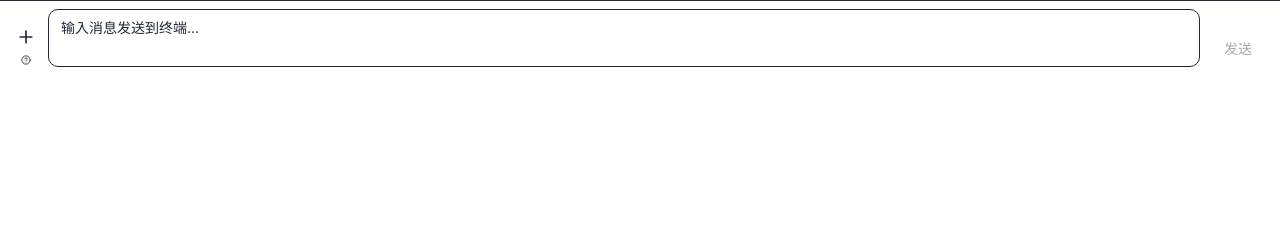
Test: CodexSendFlow：30 秒截止与待确认（S5） › verify_delivered：核对返回 delivered → 「已确认送达」（正式回显口径）
Step 1. Type "排查一下构建" into the text box with test id "composer-input" → [624, 38], box x1=48 y1=9 x2=1200 y2=67
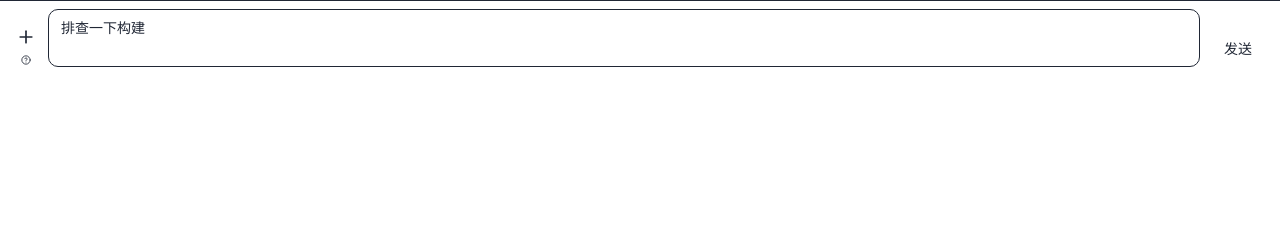
Step 2. Click the button with test id "composer-send" → [1238, 49], box x1=1208 y1=31 x2=1268 y2=67
Wait 30000 ms
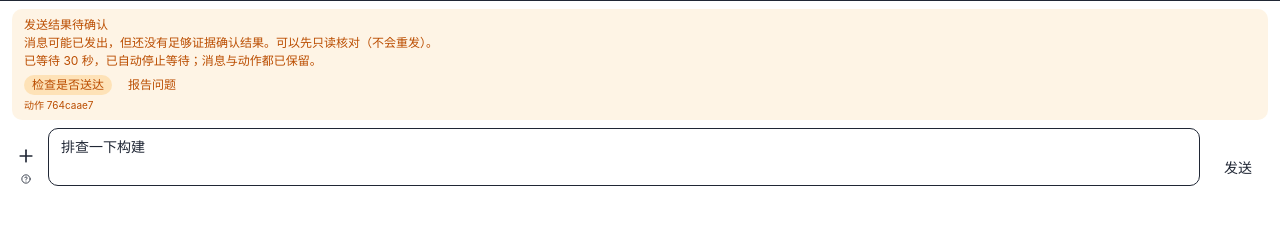
Step 3. Click the button with test id "codex-recovery-check" → [68, 85], box x1=24 y1=75 x2=112 y2=95
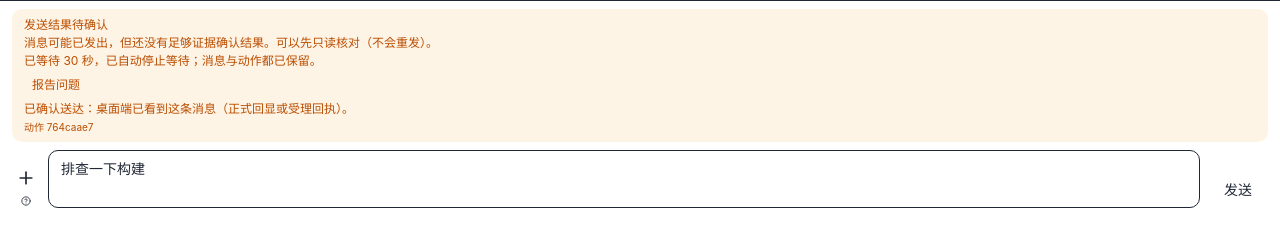
expect the text with test id "codex-recovery-result" shows "已确认送达": met, box x1=24 y1=101 x2=354 y2=116
